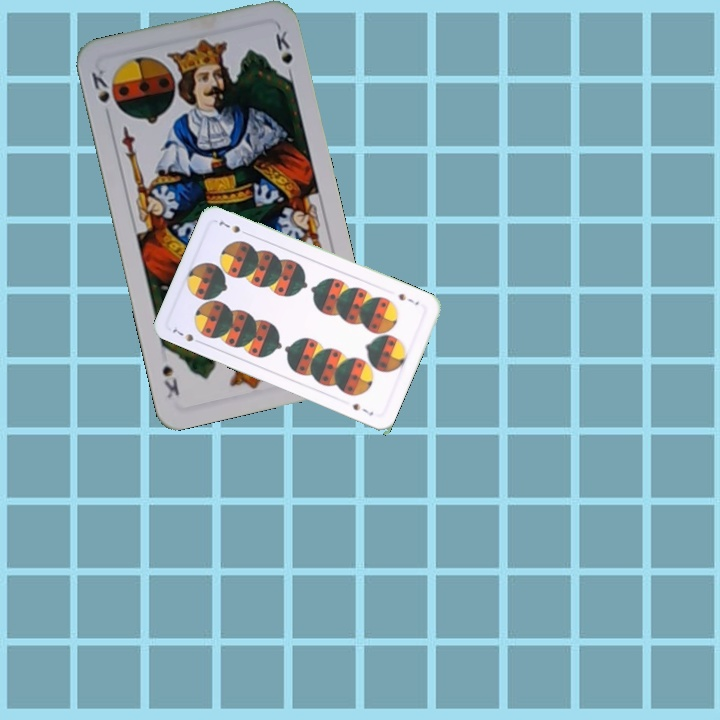S7: (168, 325, 205, 347), (394, 289, 422, 308)
SK: (87, 63, 120, 111)
